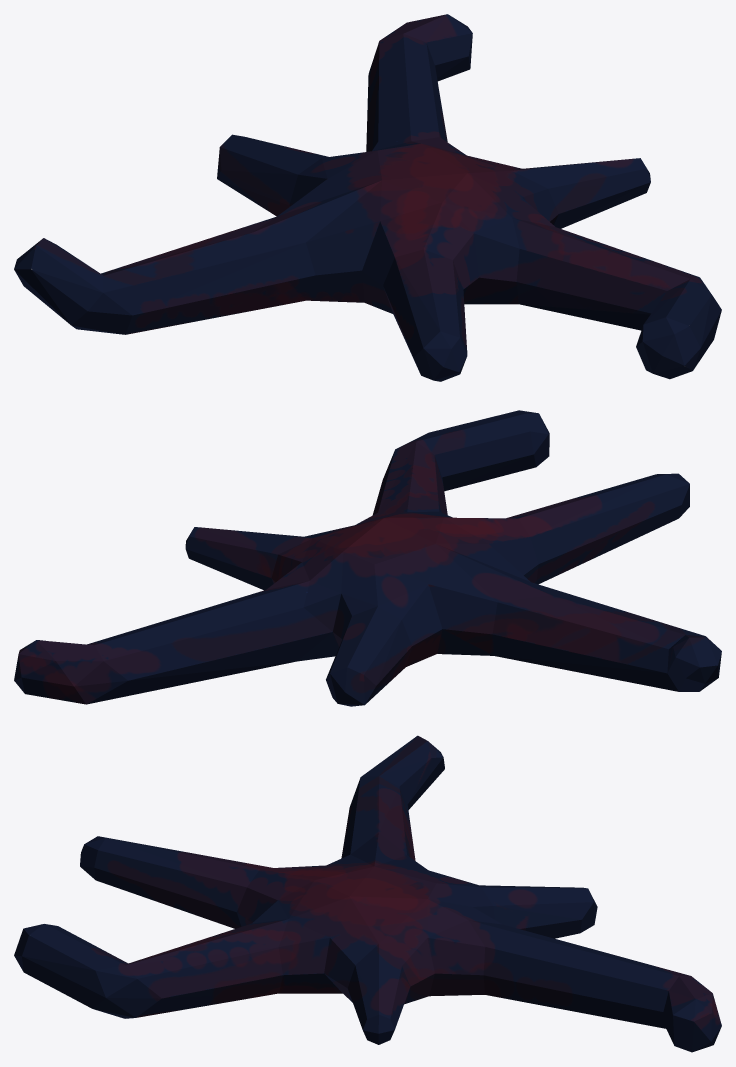
The model's file is VineBody2.glb.
3 views of the same model, one above another, from view 1: azimuth 30°, elevation 25°; view 2: azimuth 150°, elevation 25°; view 3: azimuth 270°, elevation 25° (orthographic). The views are drawn at different scales.
Visible parts, largest first — view 1: Plane; view 2: Plane; view 3: Plane.
Boxes of the visible parts, x1=… form: Plane: x1=14, y1=14, x2=721, y2=381; Plane: x1=14, y1=410, x2=721, y2=706; Plane: x1=14, y1=735, x2=721, y2=1052.
Bounding box in the file's own units: 3.14 × 0.5018 × 3.65.
1 material, 1 textured.
